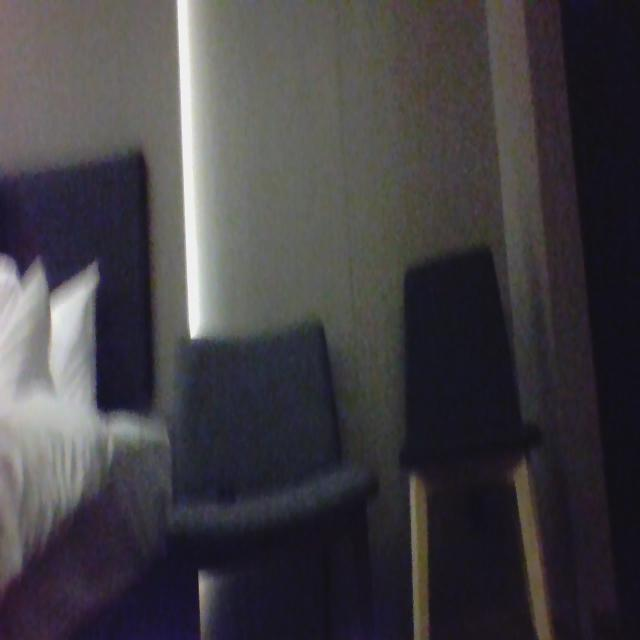empty: (170, 320, 335, 512), (395, 262, 510, 464)
